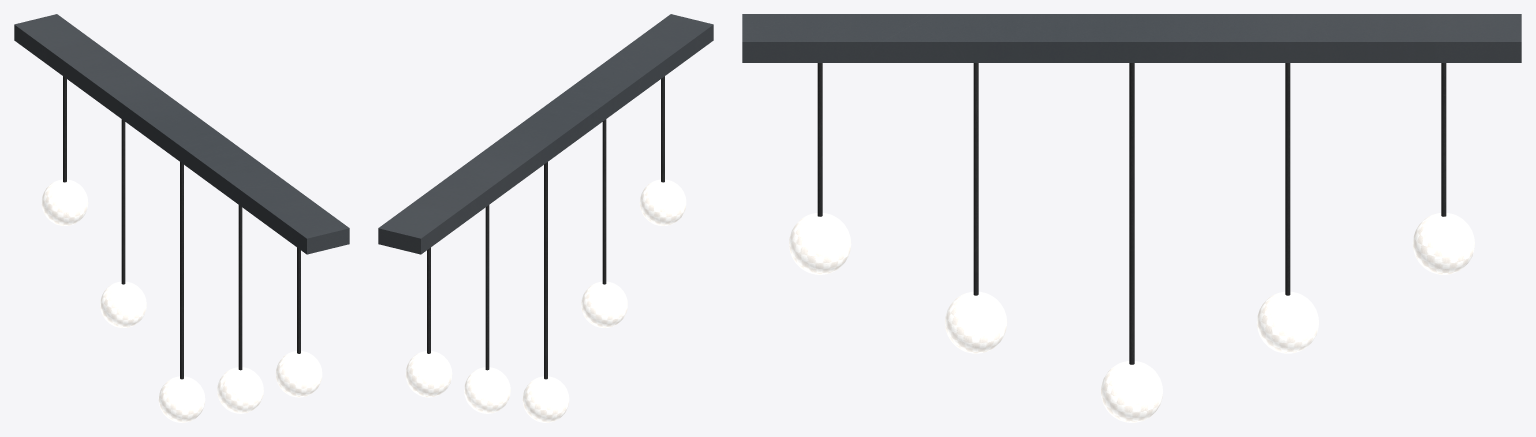
The model's file is lampara3.glb.
3 views of the same model, side by side, from view 1: azimuth 30°, elevation 25°; view 2: azimuth 150°, elevation 25°; view 3: azimuth 270°, elevation 25° (orthographic). The views are drawn at different scales.
Visible parts, largest first — view 1: CeilingLamp01_0; view 2: CeilingLamp01_0; view 3: CeilingLamp01_0.
Boxes of the visible parts, left/top/right/bottom form: CeilingLamp01_0: left=14, top=14, right=349, bottom=422; CeilingLamp01_0: left=378, top=14, right=713, bottom=422; CeilingLamp01_0: left=742, top=14, right=1521, bottom=422.
Bounding box in the file's own units: 0.1256 × 0.8242 × 1.49.
1 material, 1 textured.
